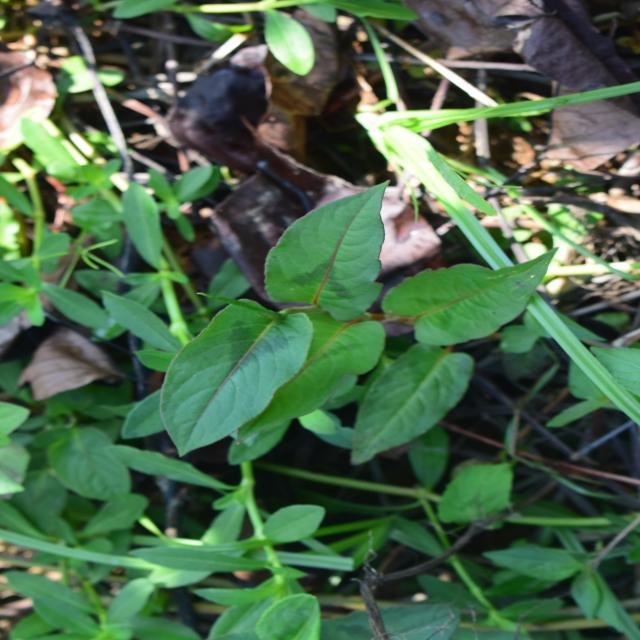Chinese_knotweed: (188, 135, 421, 546)
